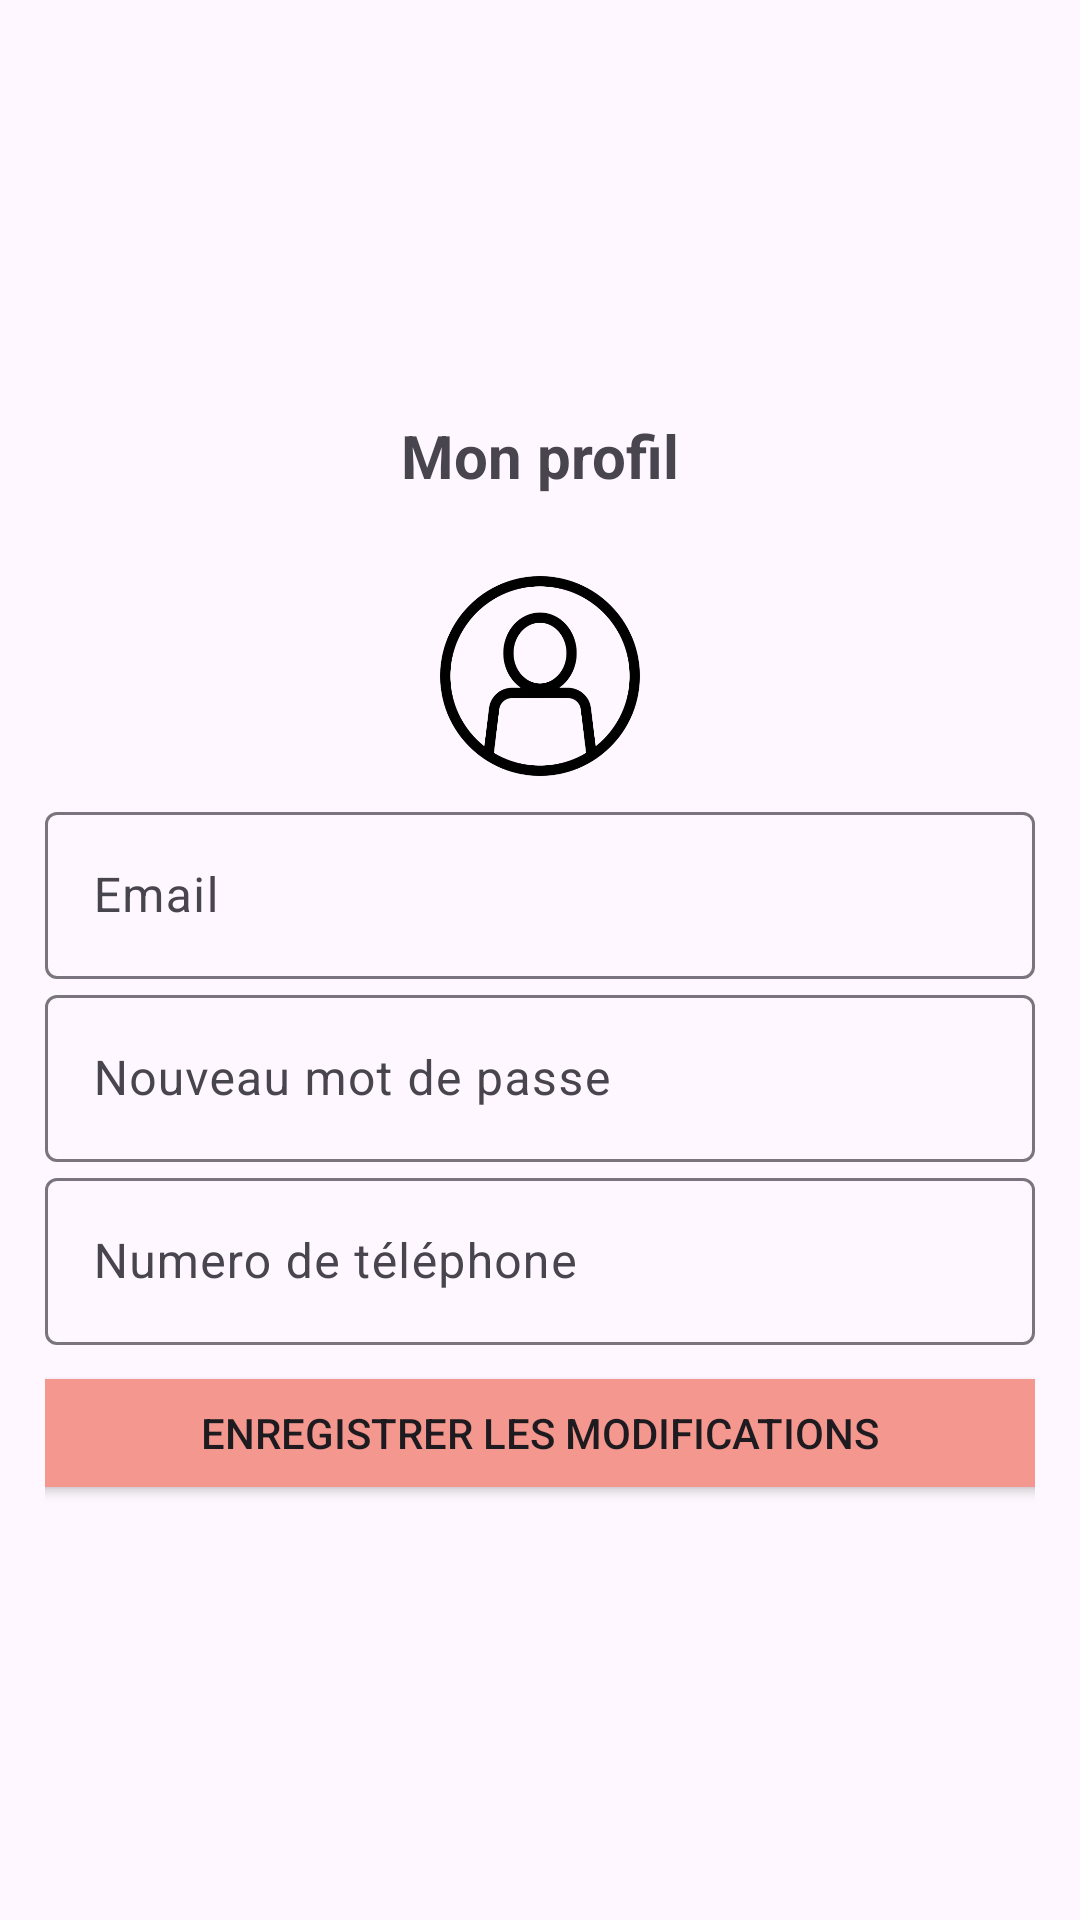

Icon bounding boxes for this 1080 × 1920 phone screenshot, format box(x1, y1, x2, y2):
usericon: box(440, 576, 640, 776)
